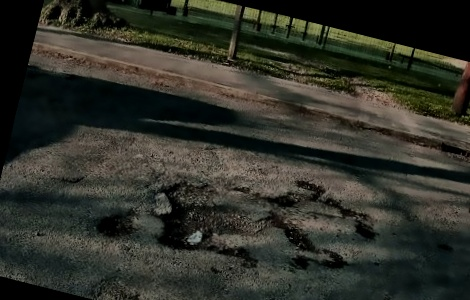pothole: (144, 167, 273, 271), (262, 208, 326, 254), (94, 203, 145, 244)
